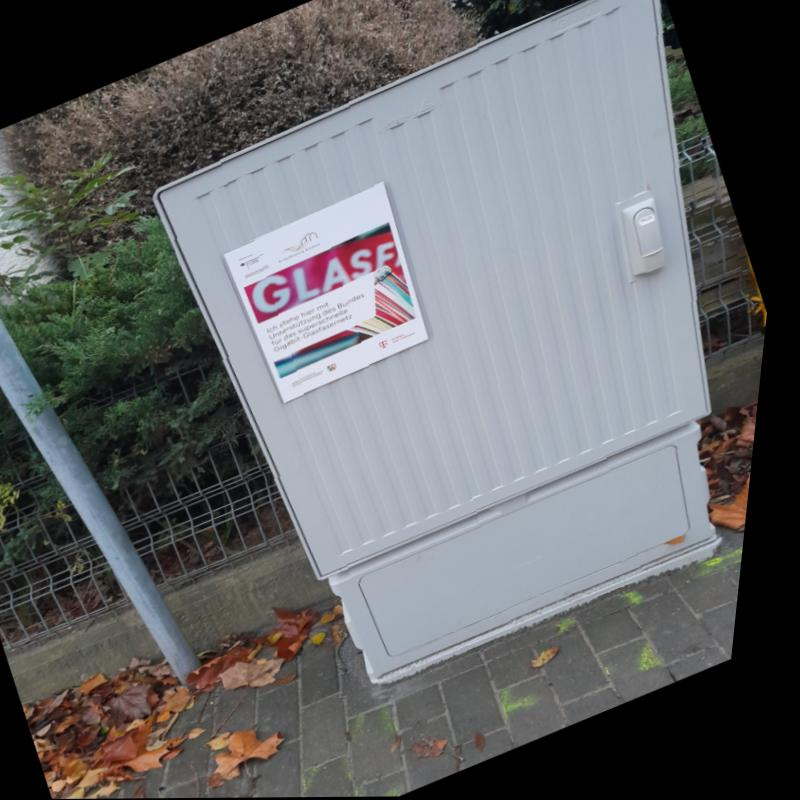NT-Gehause: (161, 0, 728, 683)
Steaker: (229, 186, 436, 402)
